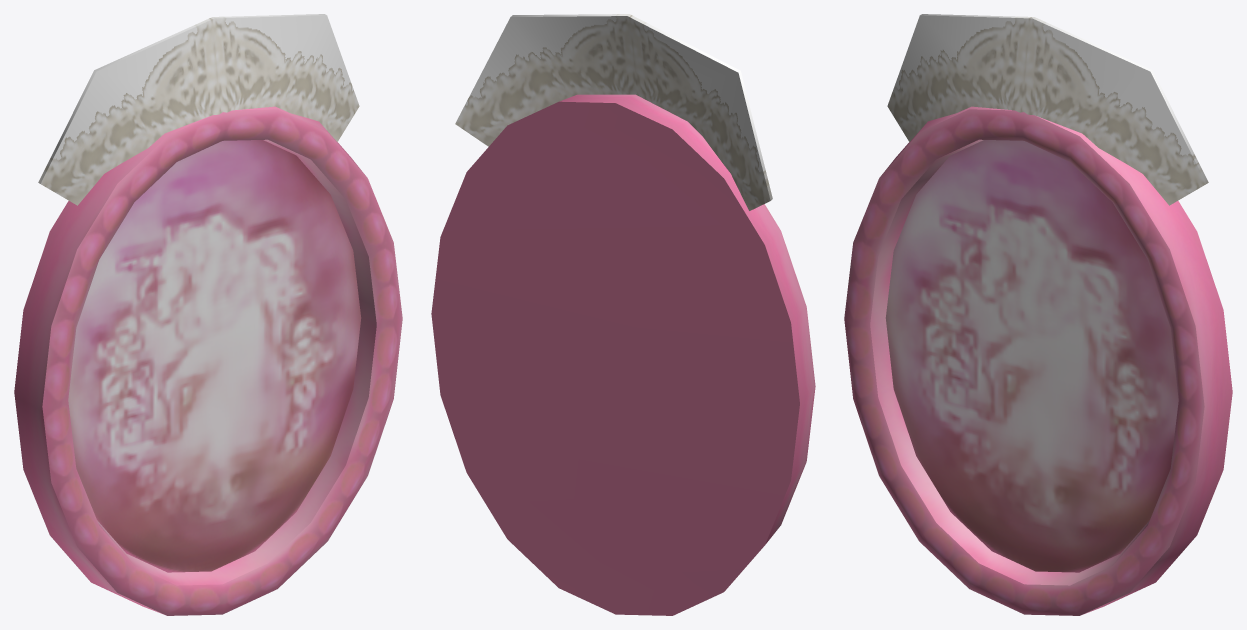
The model's file is RococoArt_HD.fbx.
The picture shows the model from 3 angles, left to right: view 1: azimuth 30°, elevation 25°; view 2: azimuth 150°, elevation 25°; view 3: azimuth 330°, elevation 25°; orthographic projection.
Parts seen in each view (by area): view 1: RococoArt; view 2: RococoArt; view 3: RococoArt.
Part boxes in pixels (<box>): RococoArt: <box>14,14,402,615</box>; RococoArt: <box>431,14,815,615</box>; RococoArt: <box>844,14,1232,615</box>.
Bounding box in the file's own units: 0.5178 × 0.7924 × 0.0683.
